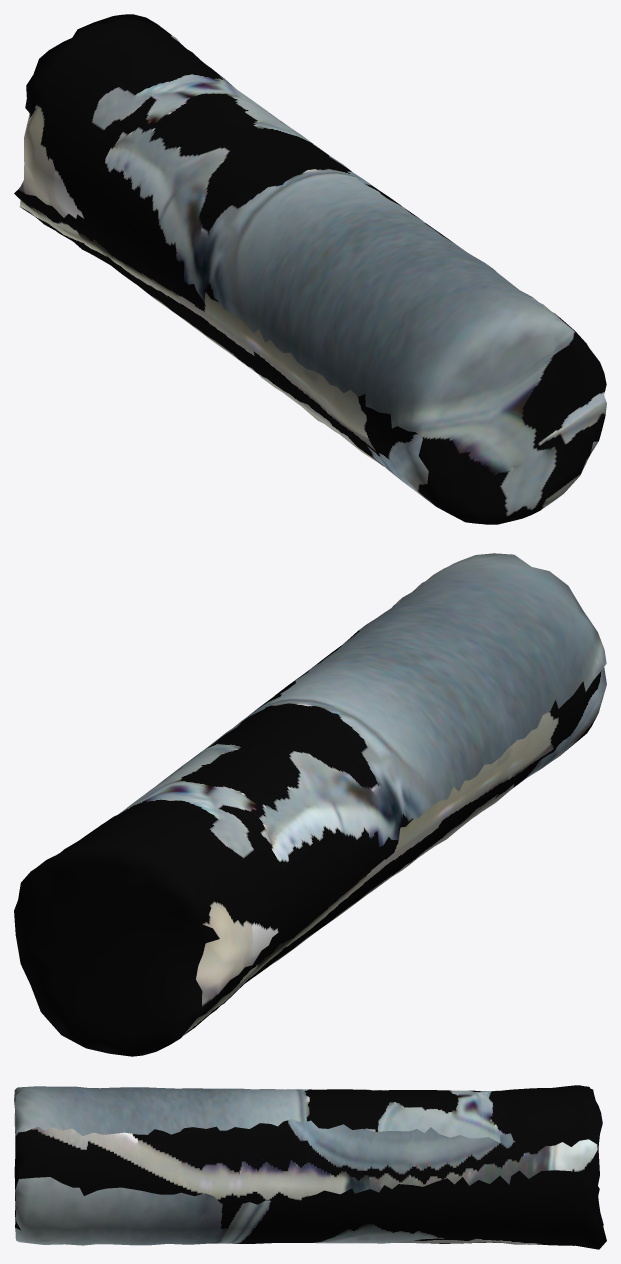
Rendered from scan_align.obj.
3 renders of one model, top to bottom at view 1: azimuth 30°, elevation 25°; view 2: azimuth 150°, elevation 25°; view 3: azimuth 270°, elevation 25°, orthographic. The views are drawn at different scales.
Bounding box in the file's own units: 0.0255 × 0.0259 × 0.0953.
